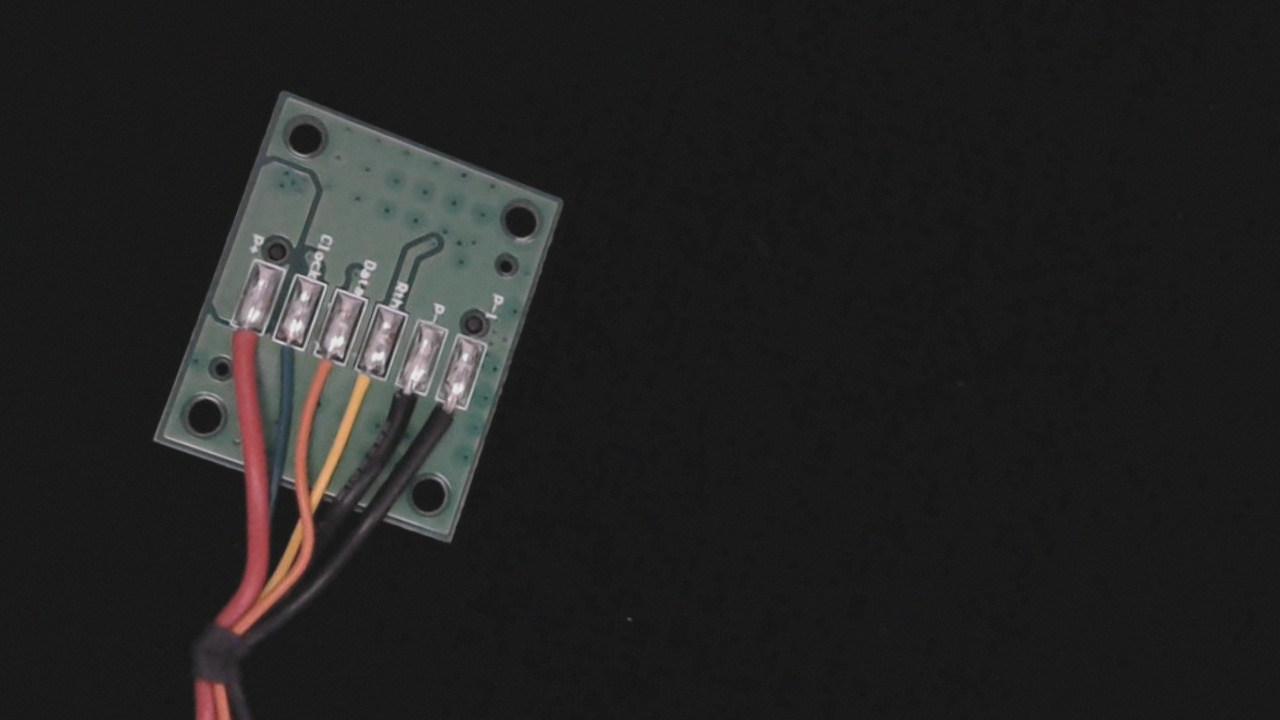Black: (376, 366, 432, 448)
Black1: (419, 379, 477, 462)
Green: (257, 317, 312, 395)
Orange: (293, 333, 352, 422)
Red: (216, 302, 270, 376)
Yellow: (332, 349, 394, 440)
